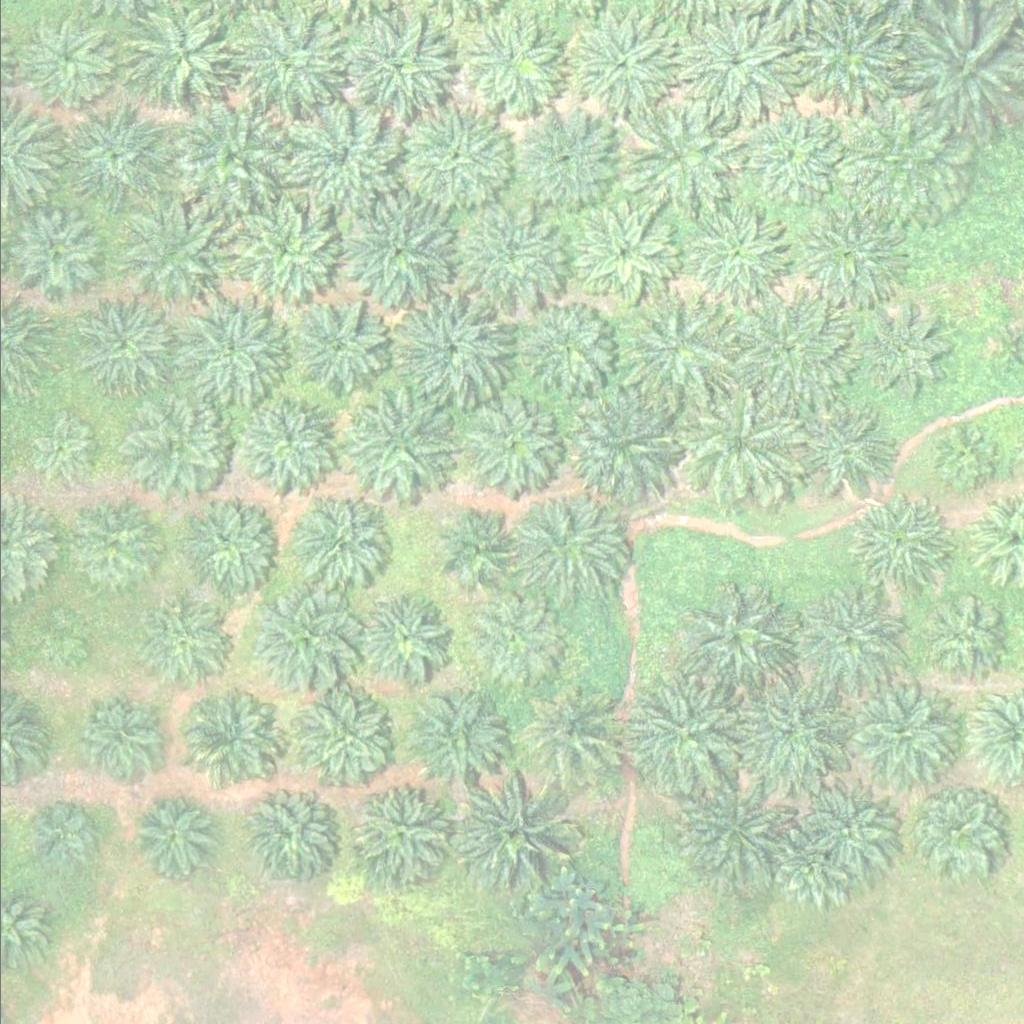Kelapa_Sawit: (845, 104, 959, 217), (906, 16, 1020, 129), (682, 385, 796, 498), (508, 489, 622, 602), (287, 681, 401, 794), (248, 579, 362, 692), (840, 681, 953, 794), (730, 99, 843, 212), (623, 103, 736, 216), (509, 100, 622, 213), (455, 203, 568, 316), (345, 195, 458, 308), (729, 674, 842, 787), (667, 776, 780, 889), (170, 296, 283, 409), (224, 197, 337, 310), (225, 8, 338, 121), (797, 194, 911, 306), (682, 198, 796, 310), (730, 293, 844, 405), (622, 290, 736, 402), (569, 390, 683, 502), (454, 387, 568, 499), (452, 779, 565, 891), (843, 295, 956, 407), (673, 5, 786, 117), (562, 6, 675, 118), (338, 11, 451, 123), (395, 99, 508, 211), (283, 100, 396, 212), (402, 291, 515, 403), (337, 389, 450, 501), (678, 583, 791, 695), (625, 679, 738, 791), (394, 684, 507, 796), (113, 199, 226, 311), (173, 102, 286, 214), (61, 98, 174, 210), (516, 689, 617, 789), (793, 589, 894, 689), (848, 491, 949, 591), (463, 12, 564, 112), (576, 202, 677, 302), (285, 297, 386, 397), (789, 397, 890, 497), (350, 783, 451, 883), (131, 596, 232, 696), (182, 494, 283, 594), (63, 498, 164, 598), (237, 394, 338, 494), (125, 395, 226, 495), (76, 295, 177, 395), (520, 298, 620, 398), (287, 487, 387, 587), (464, 589, 564, 689), (352, 586, 452, 686), (237, 785, 337, 885), (177, 686, 277, 786), (18, 9, 118, 109), (915, 593, 1004, 681), (125, 790, 213, 878), (910, 792, 998, 879), (803, 785, 891, 872), (763, 820, 851, 907), (73, 692, 161, 779), (442, 510, 518, 585), (19, 408, 94, 483), (932, 425, 995, 488), (30, 803, 93, 866), (27, 605, 90, 667)
